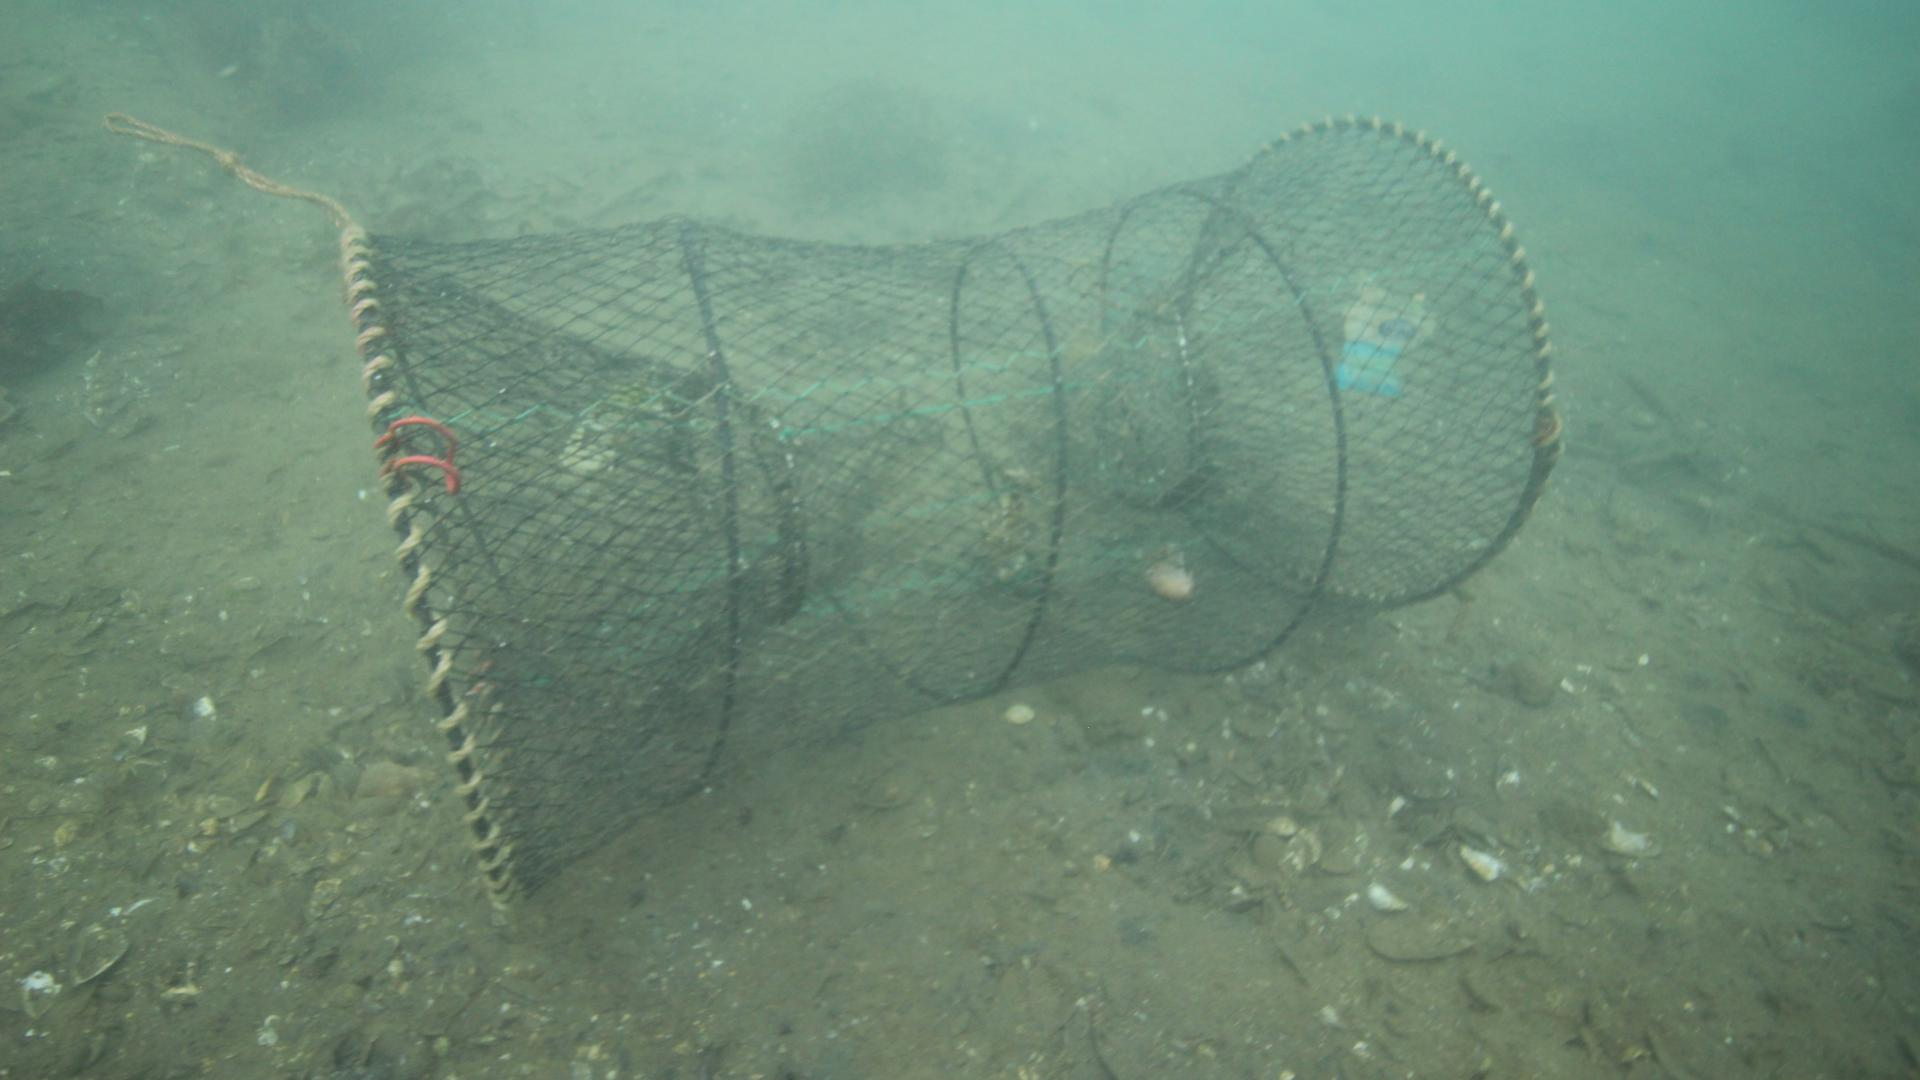bundle of ropes: (115, 102, 342, 207)
spring fish trap: (334, 113, 1563, 938)
